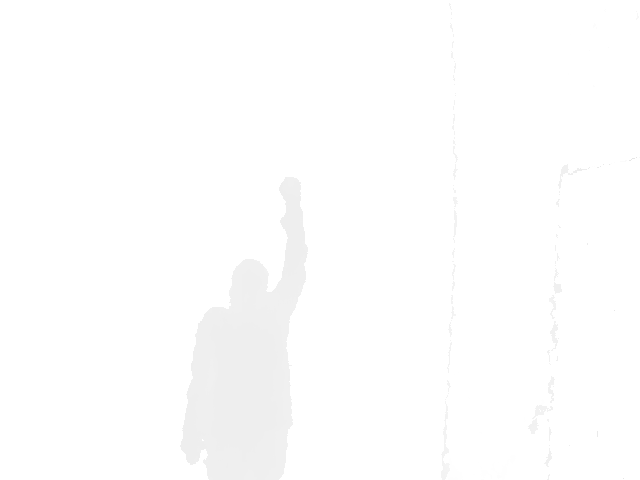hand: (276, 175, 303, 205)
head: (228, 259, 270, 315)
person: (178, 175, 310, 480)
